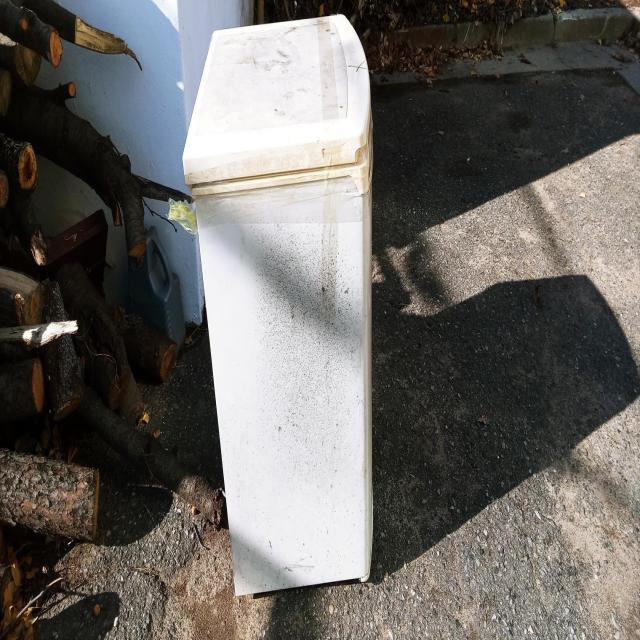refrigerator: (180, 4, 378, 612)
